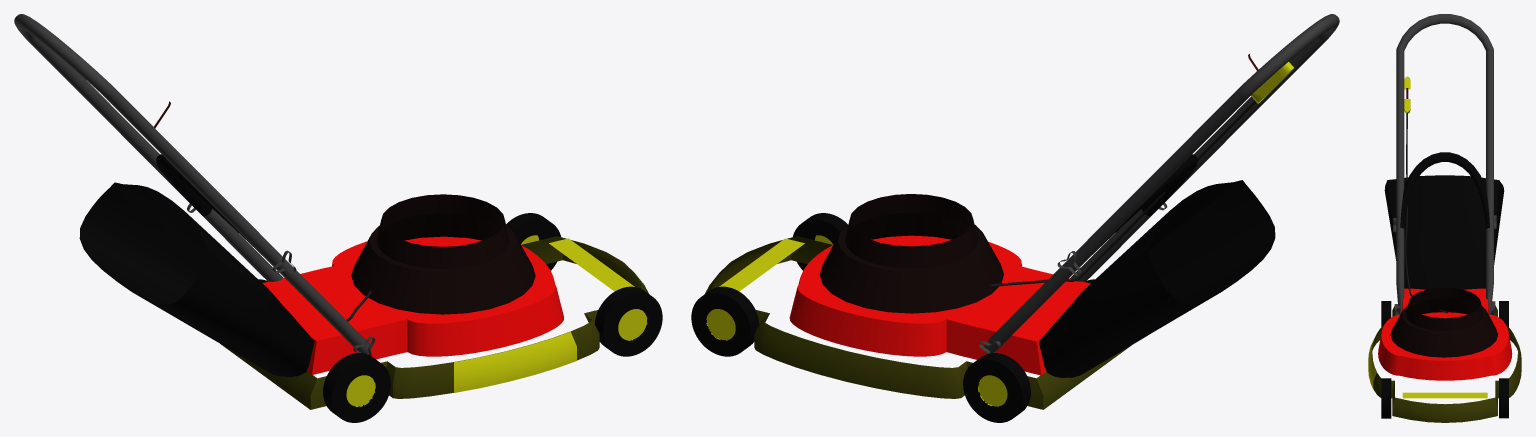
The model's file is mower2.FBX.
The picture shows the model from 3 angles, left to right: view 1: azimuth 30°, elevation 25°; view 2: azimuth 150°, elevation 25°; view 3: azimuth 270°, elevation 25°; orthographic projection. The views are drawn at different scales.
Visible parts, largest first — view 1: SCREW3_BLA; view 2: SCREW3_BLA; view 3: SCREW3_BLA.
Part boxes in pixels (left/top/right/bottom): SCREW3_BLA: left=14, top=14, right=662, bottom=422; SCREW3_BLA: left=691, top=14, right=1339, bottom=422; SCREW3_BLA: left=1368, top=14, right=1521, bottom=422.
Size of the model in its own units: 1.22 by 0.8258 by 0.464.
